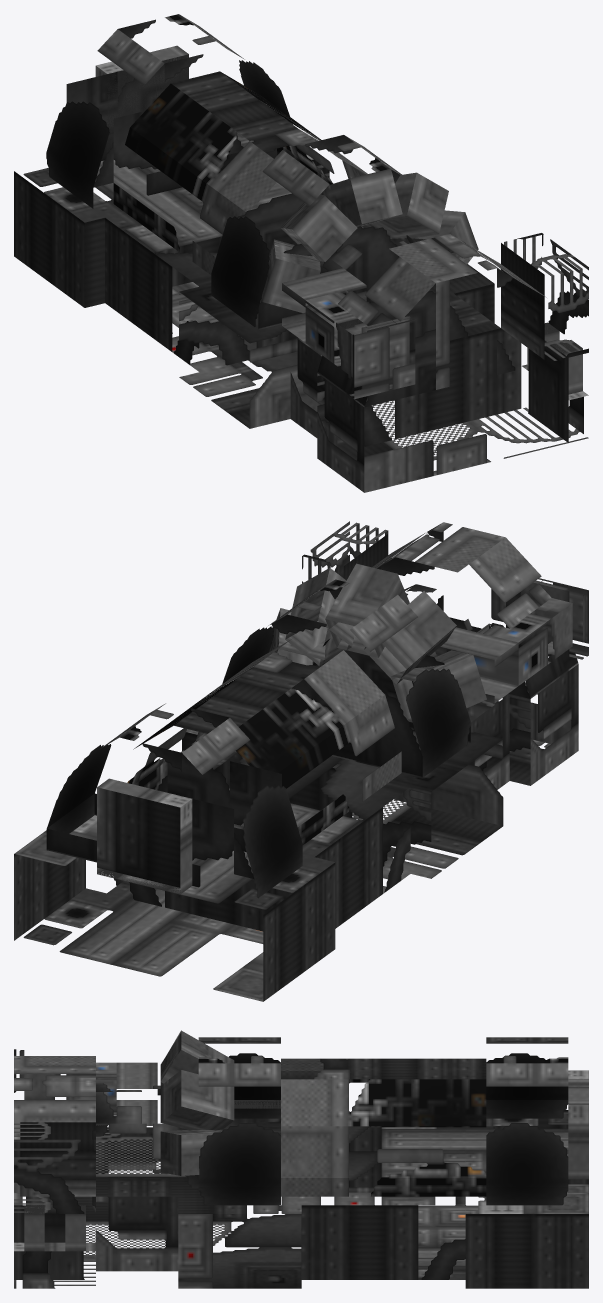
Rendered from gas_turbine.obj.
The picture shows the model from 3 angles, top to bottom: view 1: azimuth 30°, elevation 25°; view 2: azimuth 150°, elevation 25°; view 3: azimuth 270°, elevation 25°; orthographic projection. The views are drawn at different scales.
Parts seen in each view (by area): view 1: cube; view 2: cube; view 3: cube.
Boxes of the visible parts, x1,y1,x2,y2 form: cube: (14, 14, 588, 492); cube: (14, 521, 588, 1001); cube: (14, 1030, 588, 1288).
Bounding box in the file's own units: 3 × 2.62 × 7.
